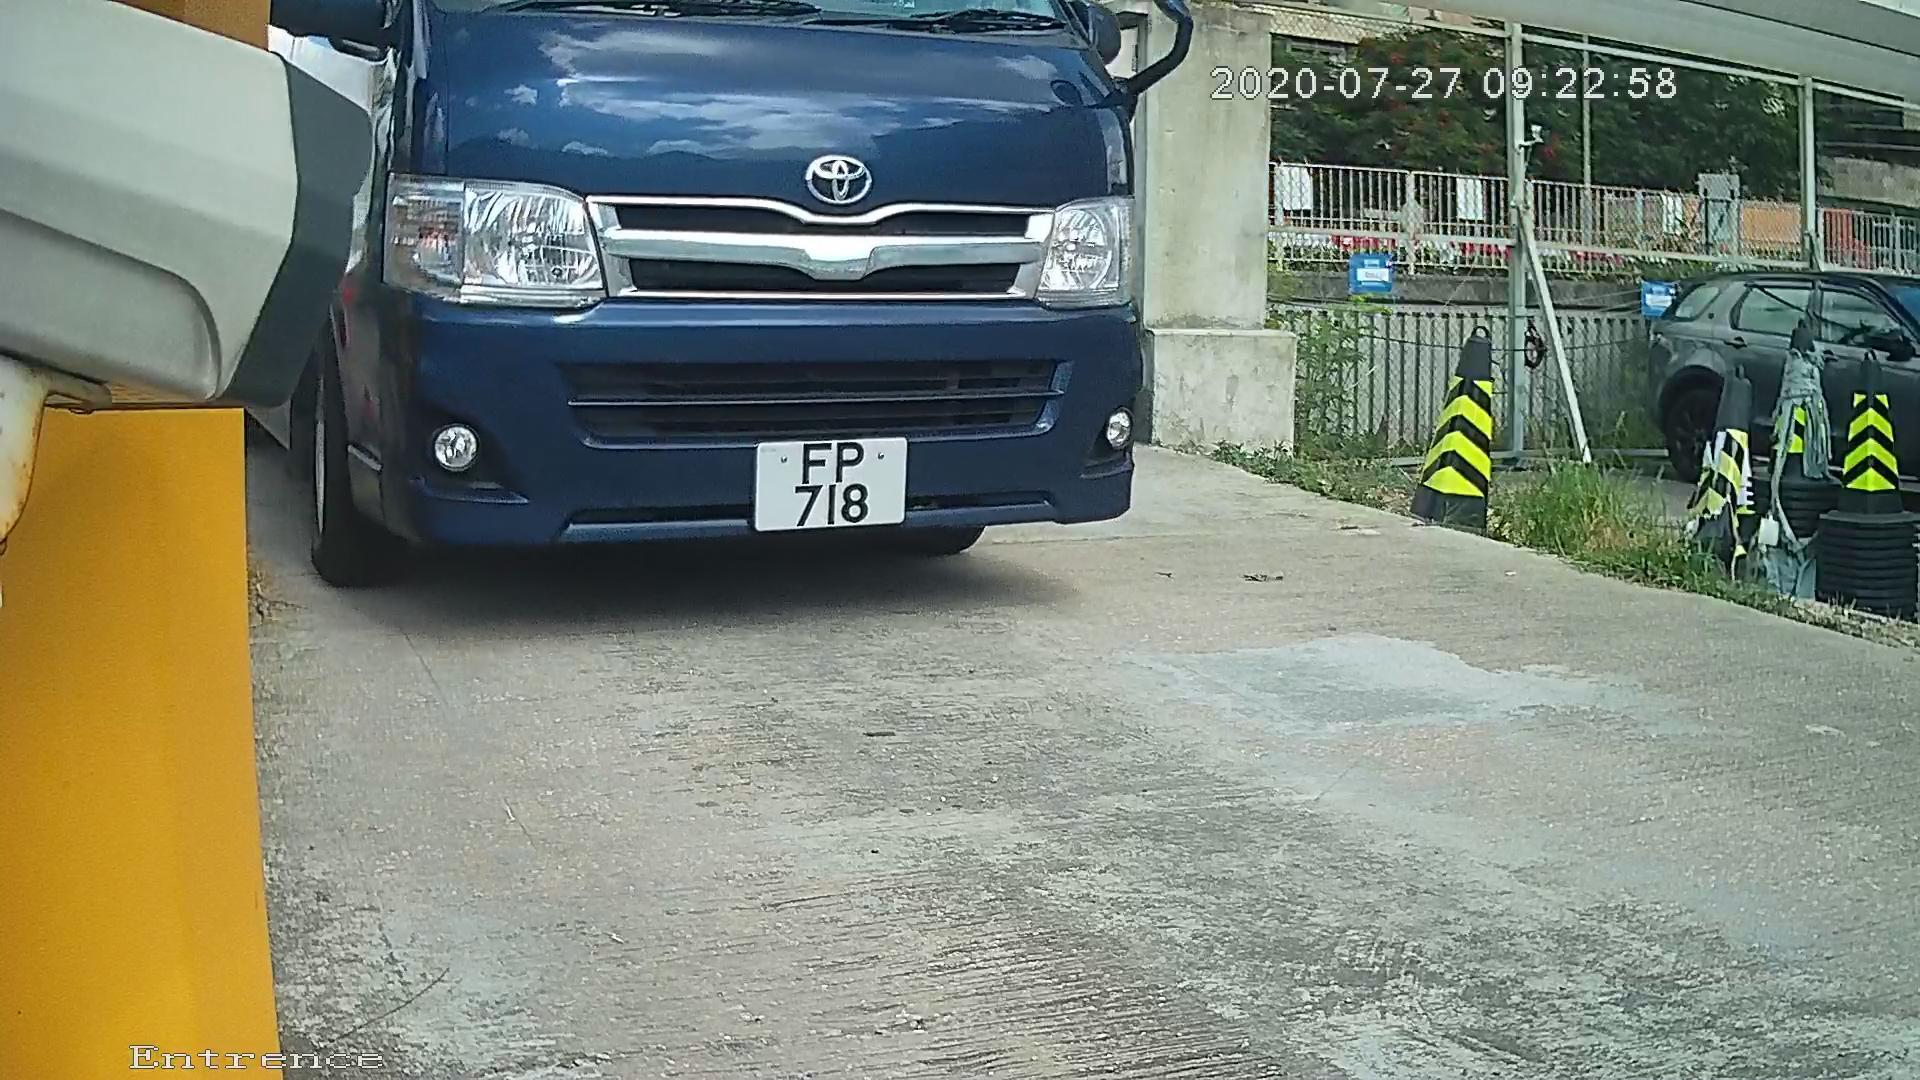License Plate: (738, 420, 918, 531)
